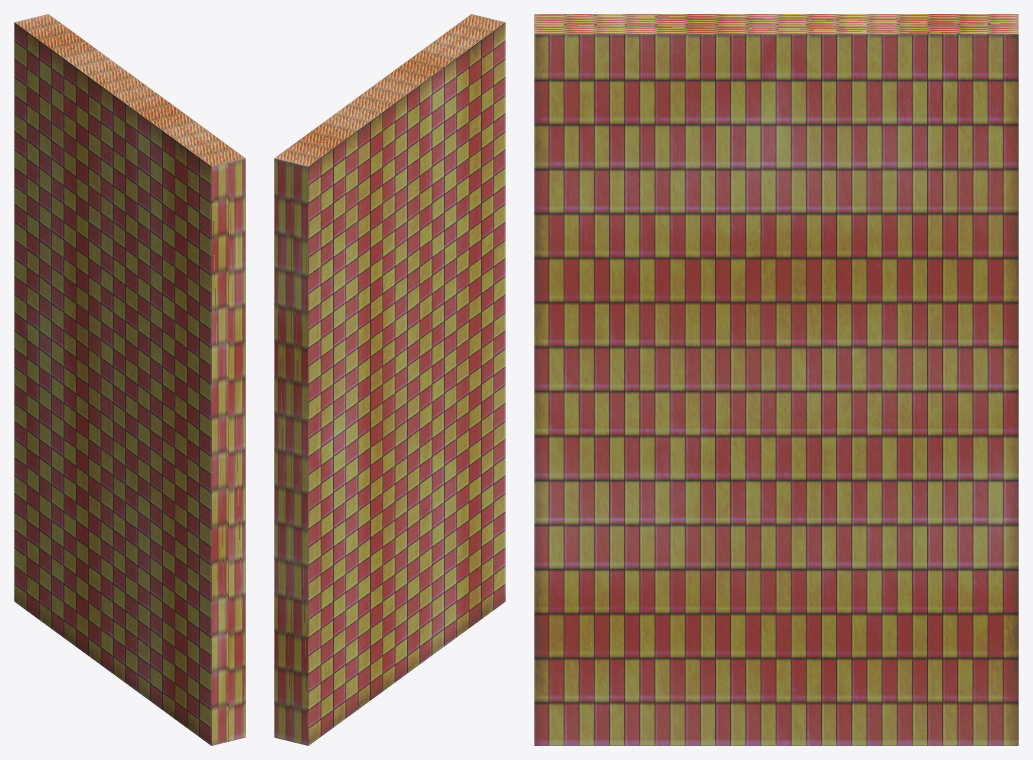
File: wall_plus_90degrees.obj
3 views of the same model, side by side, from view 1: azimuth 30°, elevation 25°; view 2: azimuth 150°, elevation 25°; view 3: azimuth 270°, elevation 25° (orthographic). The views are drawn at different scales.
Bounding box in the file's own units: 0.2 × 3.24 × 2.
Materials: 1 (1 with a texture image).
